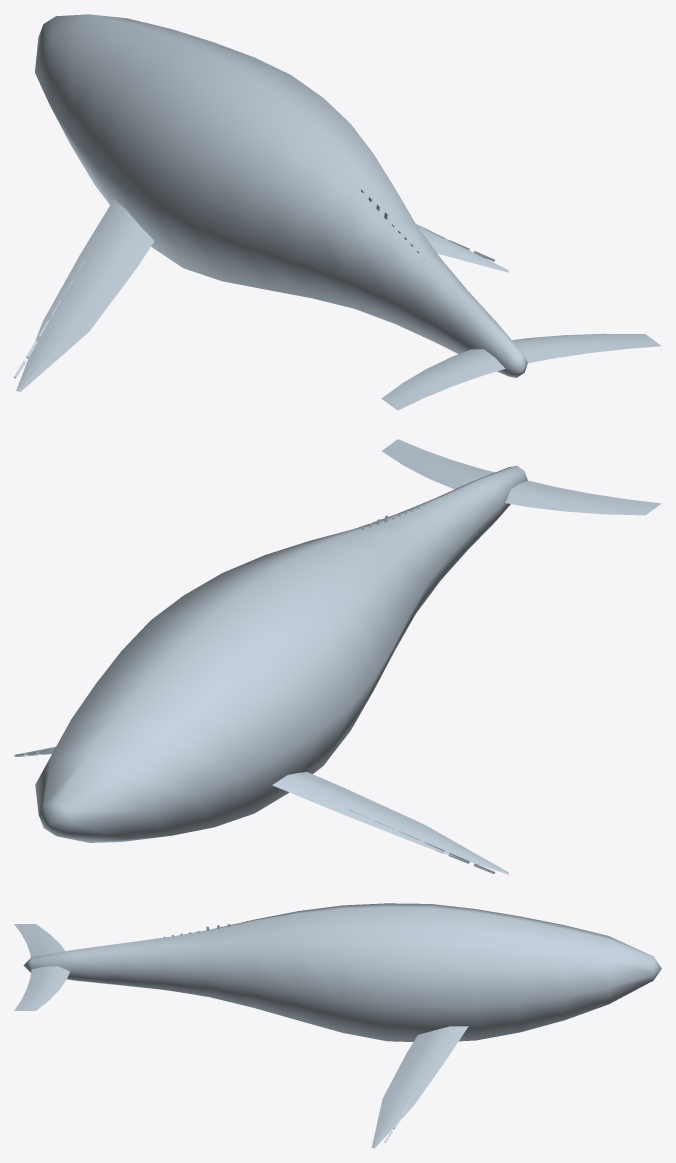
Rendered from ghost_whale_lo.glb.
3 renders of one model, top to bottom at view 1: azimuth 30°, elevation 25°; view 2: azimuth 150°, elevation 25°; view 3: azimuth 270°, elevation 25°, orthographic. The views are drawn at different scales.
Visible parts, largest first — view 1: ghost_whale_lo; view 2: ghost_whale_lo; view 3: ghost_whale_lo.
Part boxes in pixels (left/top/right/bottom): ghost_whale_lo: left=14, top=14, right=661, bottom=410; ghost_whale_lo: left=14, top=439, right=661, bottom=874; ghost_whale_lo: left=14, top=903, right=661, bottom=1148.
Bounding box in the file's own units: 8.65 × 3.98 × 14.59.
